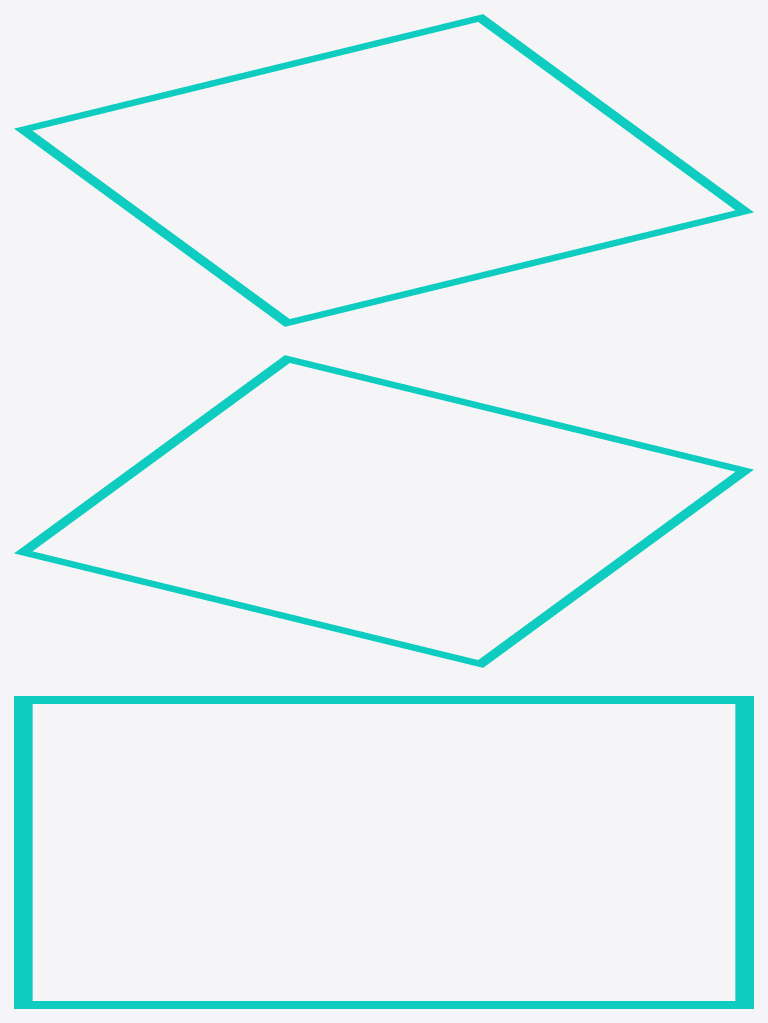
Rendered from LightBig.fbx.
3 views of the same model, one above another, from view 1: azimuth 30°, elevation 25°; view 2: azimuth 150°, elevation 25°; view 3: azimuth 270°, elevation 25° (orthographic). The views are drawn at different scales.
Parts seen in each view (by area): view 1: polySurface1; view 2: polySurface1; view 3: polySurface1.
Part boxes in pixels (x1,y1,x2,y2): polySurface1: (14,14,753,326); polySurface1: (14,355,753,667); polySurface1: (14,696,753,1008).
Size of the model in its own units: 0.75 by 0 by 0.75.
